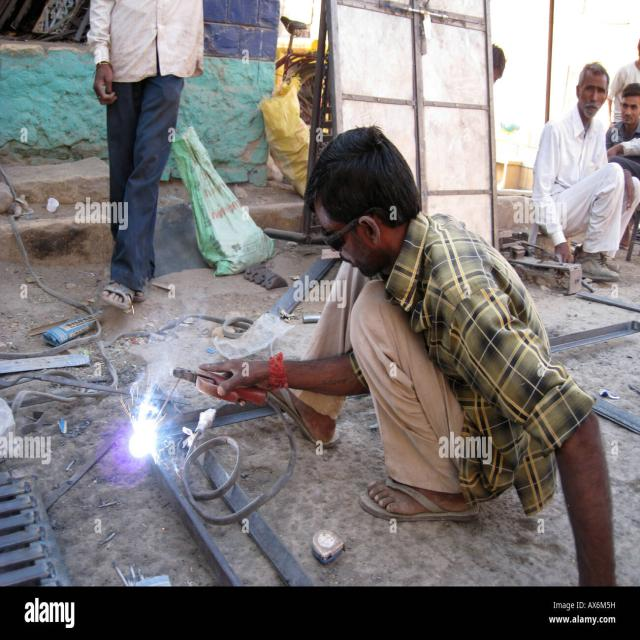without_helmet: (287, 102, 426, 306), (576, 60, 613, 125), (618, 74, 640, 140)
